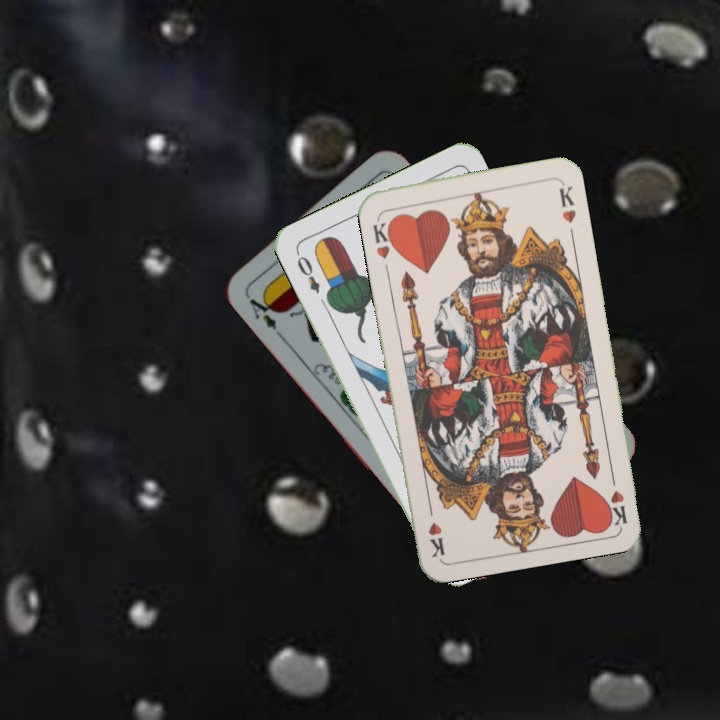EA: (245, 290, 285, 340)
EO: (292, 248, 323, 296)
HK: (603, 467, 630, 527), (369, 213, 399, 261)
